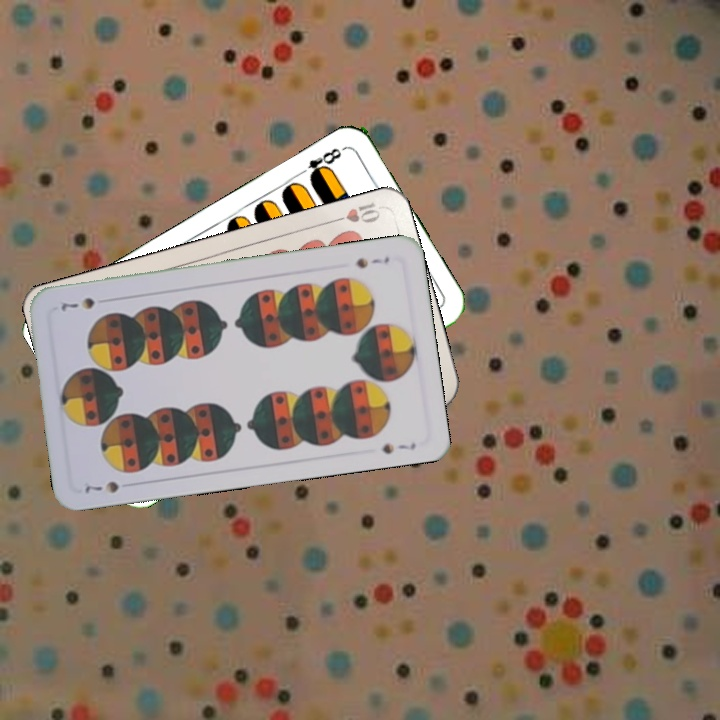E8: (293, 143, 348, 184)
H10: (325, 197, 384, 226)
S7: (80, 477, 122, 496), (352, 252, 392, 271)
